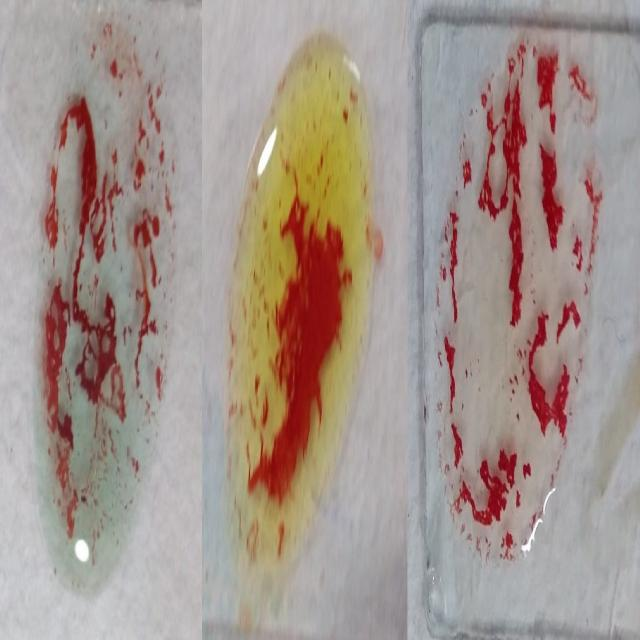A: (29, 37, 162, 601)
B: (226, 39, 370, 570)
D: (440, 29, 594, 574)
